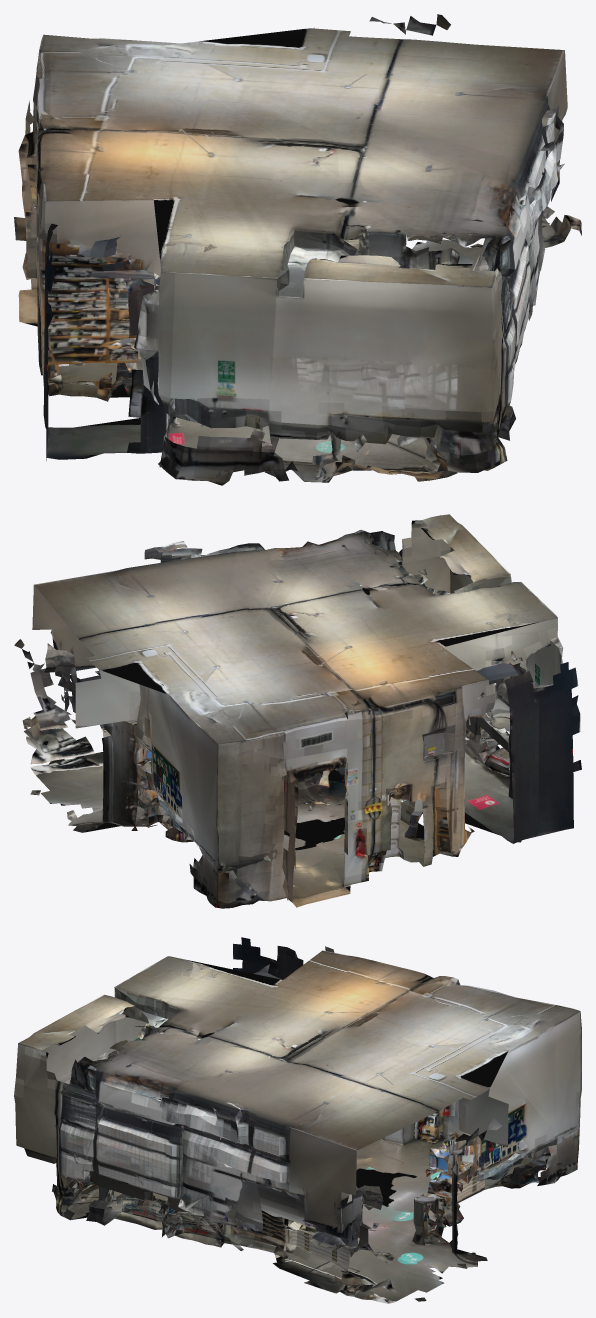
File: MG_photo_area_2-IM.fbx
3 renders of one model, top to bottom at view 1: azimuth 30°, elevation 25°; view 2: azimuth 150°, elevation 25°; view 3: azimuth 270°, elevation 25°, orthographic. The views are drawn at different scales.
Parts seen in each view (by area): view 1: MG_photo_area_2-IM; view 2: MG_photo_area_2-IM; view 3: MG_photo_area_2-IM.
Boxes of the visible parts, x1,y1,x2,y2 form: MG_photo_area_2-IM: (14, 14, 581, 485); MG_photo_area_2-IM: (14, 514, 581, 908); MG_photo_area_2-IM: (14, 937, 581, 1303).
Bounding box in the file's own units: 961 × 350 × 1008.
1 material, 1 textured.
